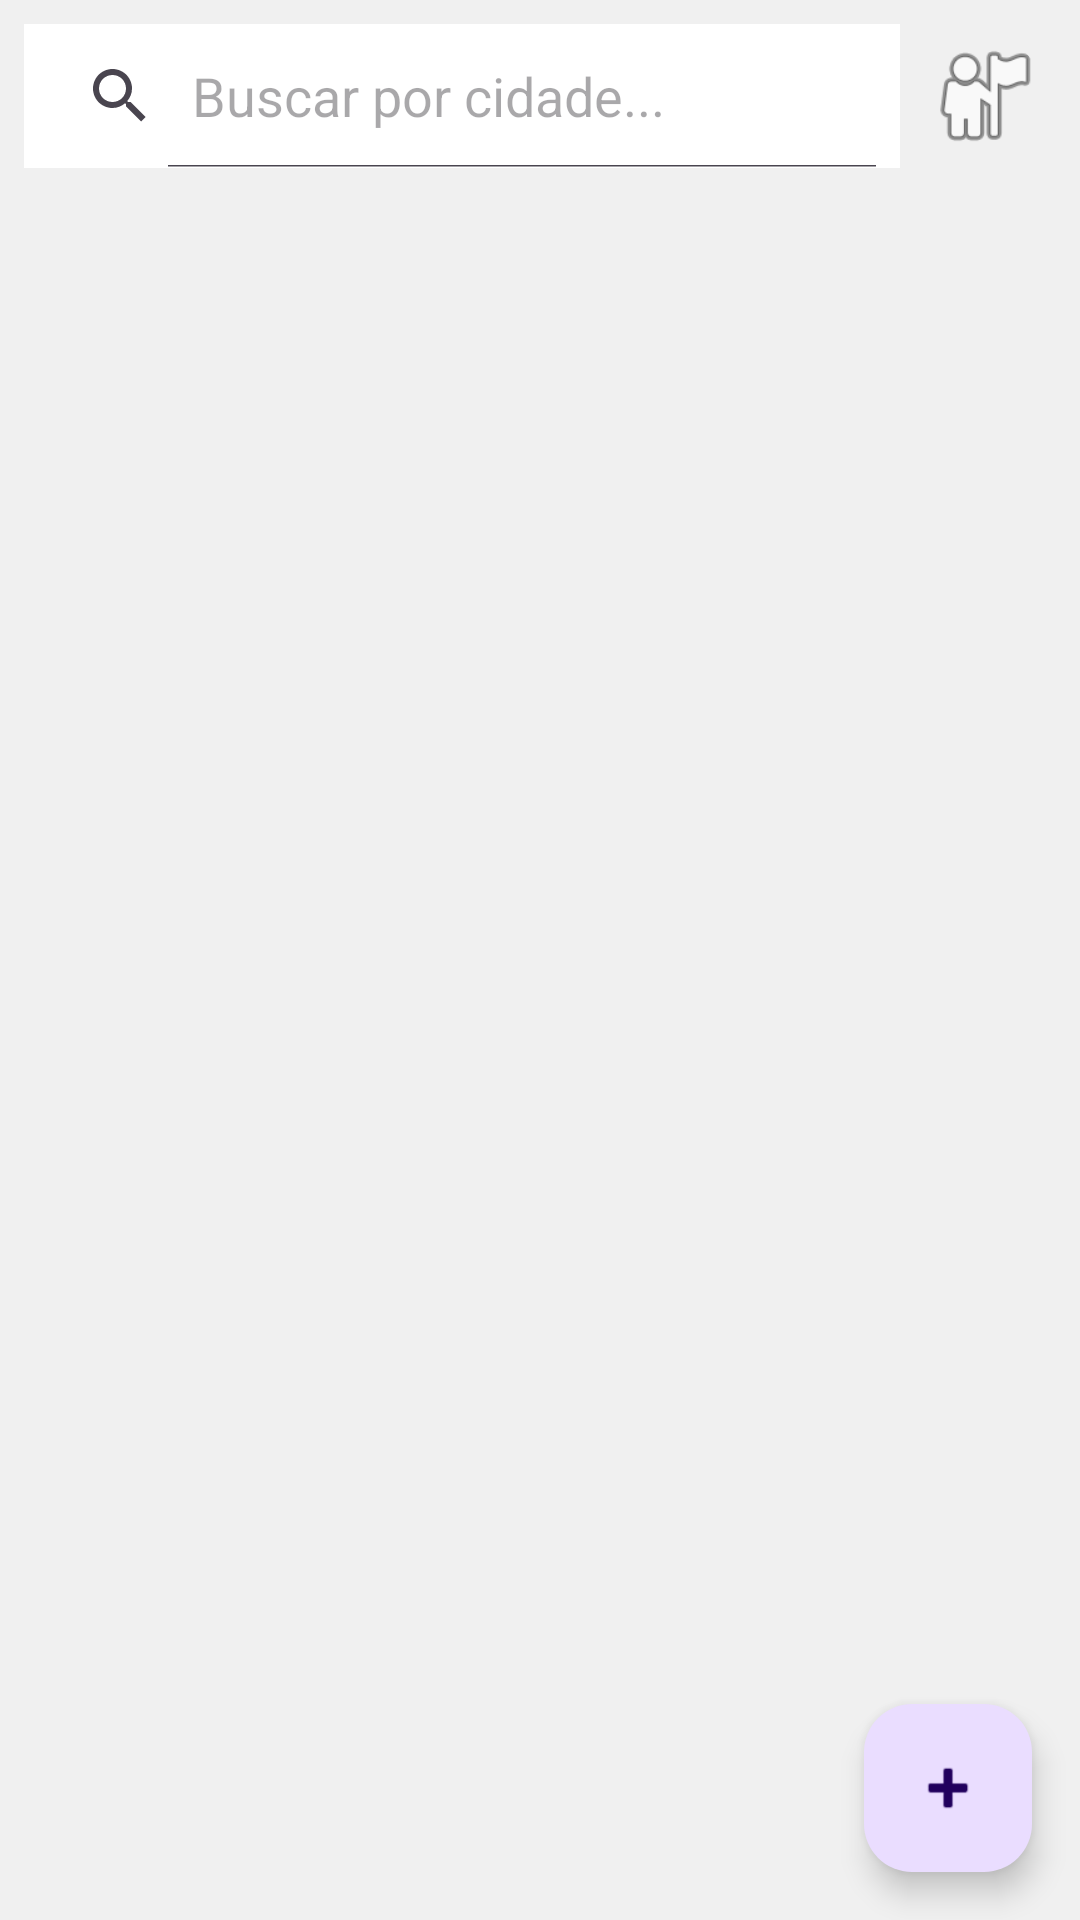

Icon click points for this 1080x1920 phone screenshot, format (x=x, y=y):
add: (x=948, y=1788)
myplaces: (x=985, y=96)
